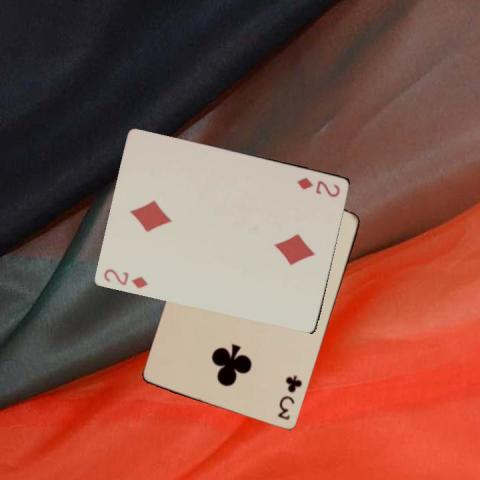2d: (294, 174, 342, 199), (101, 266, 150, 290)
3c: (275, 373, 304, 422)
